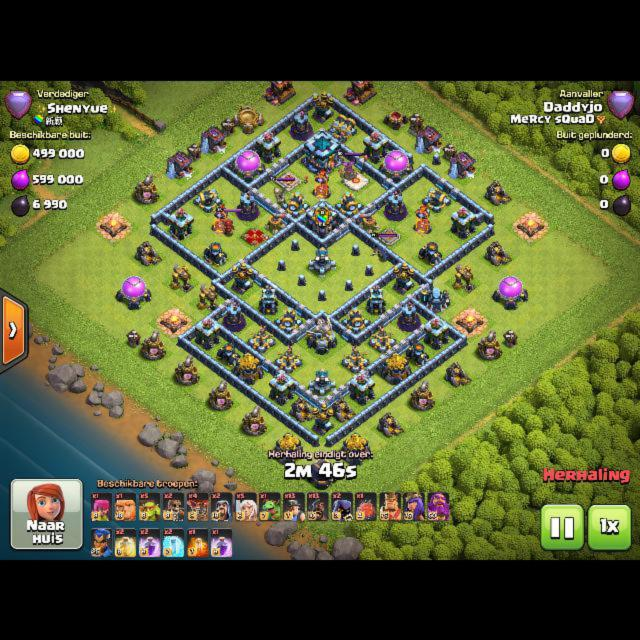AD: (231, 262, 254, 295), (311, 89, 333, 123), (312, 403, 334, 436), (392, 262, 414, 295)
AirSweeper: (358, 212, 380, 234), (265, 212, 286, 234)
BombTower: (367, 283, 385, 313), (259, 284, 277, 314)
Canon: (328, 113, 357, 142), (340, 307, 370, 334), (274, 307, 303, 334), (281, 190, 310, 217), (421, 186, 451, 212), (335, 190, 364, 216), (192, 187, 222, 212)
ClanCastle: (306, 200, 339, 238)
Eagle: (306, 314, 337, 354)
Inferno: (312, 169, 331, 198), (211, 203, 229, 233), (413, 205, 431, 234)
KingPad: (275, 171, 301, 190)
Mortar: (405, 342, 430, 367), (216, 342, 241, 367), (418, 241, 443, 266), (203, 241, 228, 265)
QueenPad: (242, 226, 269, 246)
RcPad: (378, 227, 400, 244)
Scattershot: (309, 367, 336, 398), (309, 246, 336, 276)
TH13: (304, 130, 341, 175)
WardenPad: (343, 170, 367, 188)
WizzTower: (398, 301, 420, 331), (223, 301, 245, 331), (236, 190, 258, 220), (384, 190, 406, 220), (291, 109, 312, 139)
Xbow: (247, 324, 276, 353), (368, 324, 397, 353), (341, 345, 370, 374), (273, 345, 303, 373)
